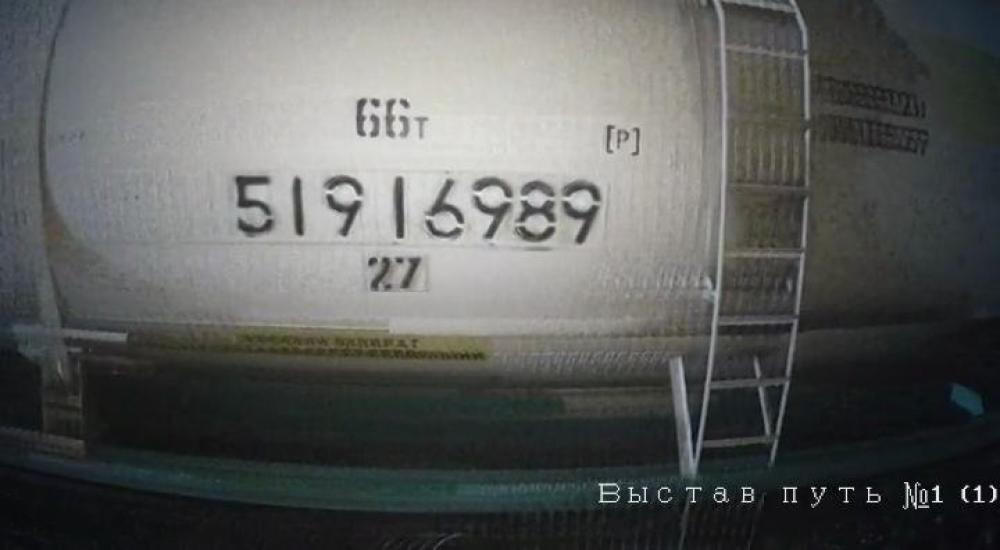Wagon-number: (229, 169, 605, 250)
